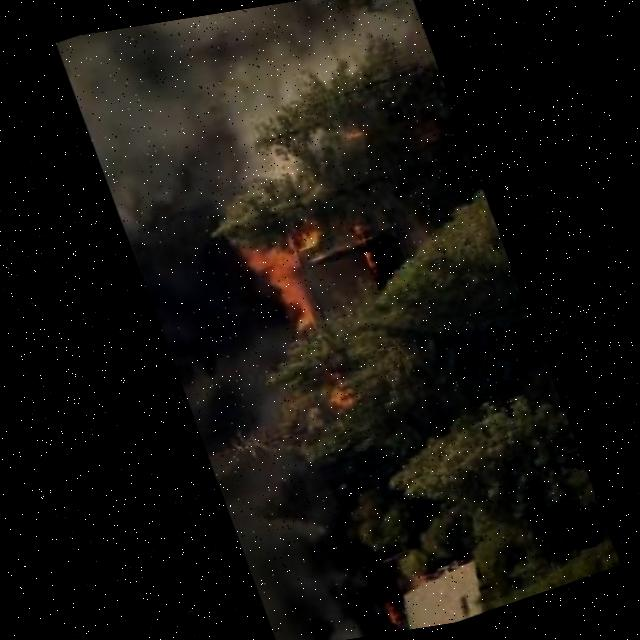fire: (222, 181, 409, 367), (323, 380, 365, 412)
